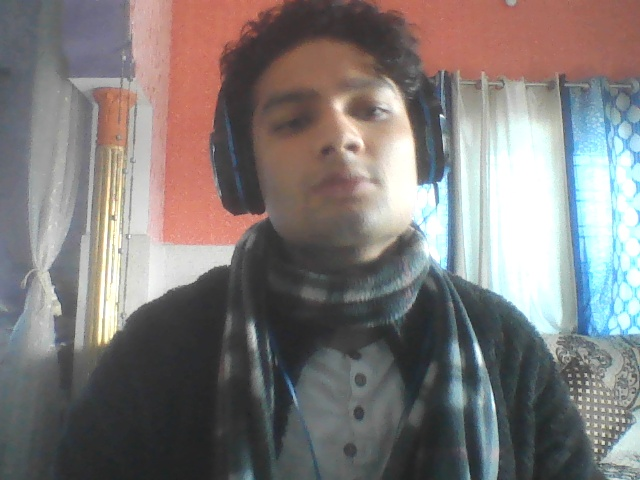real: (238, 0, 431, 273)
